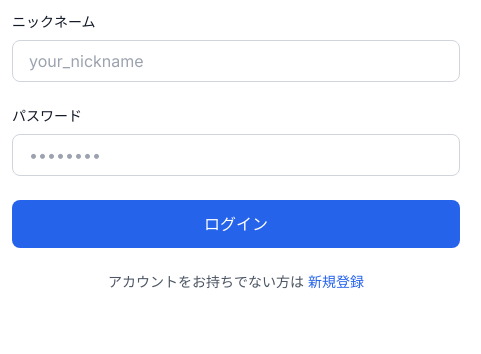
Test case: LoginForm › Validation › should show multiple validation errors
The image size is (481, 354).
Step 1. Type "ab" into the field labelled "ニックネーム" → (236, 61), box [12,40,460,82]
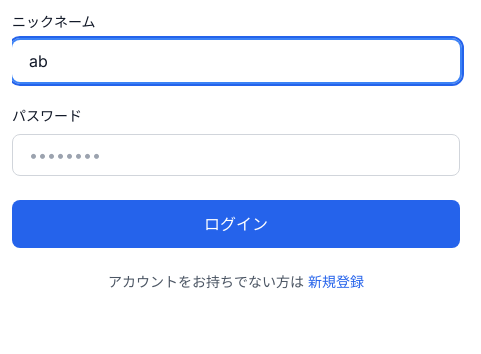
Step 2. Type "pass" into the password field labelled "パスワード" → (236, 155), box [12,134,460,176]
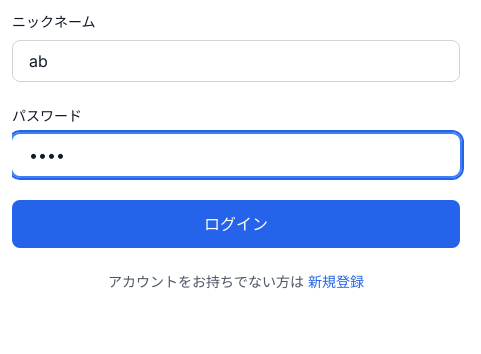
Step 3. Submit the form named "ログインフォーム"
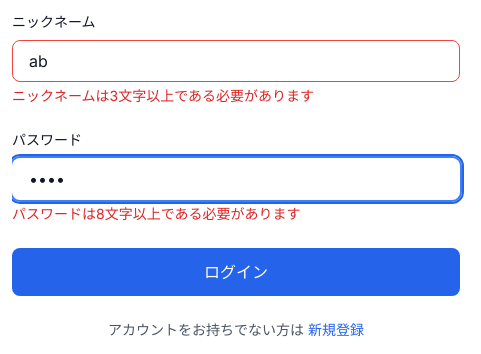
Check: the text "ニックネームは3文字以上である必要があります" is shown, box [12,87,314,104]
Check: the text "パスワードは8文字以上である必要があります" is shown, box [12,205,300,222]
